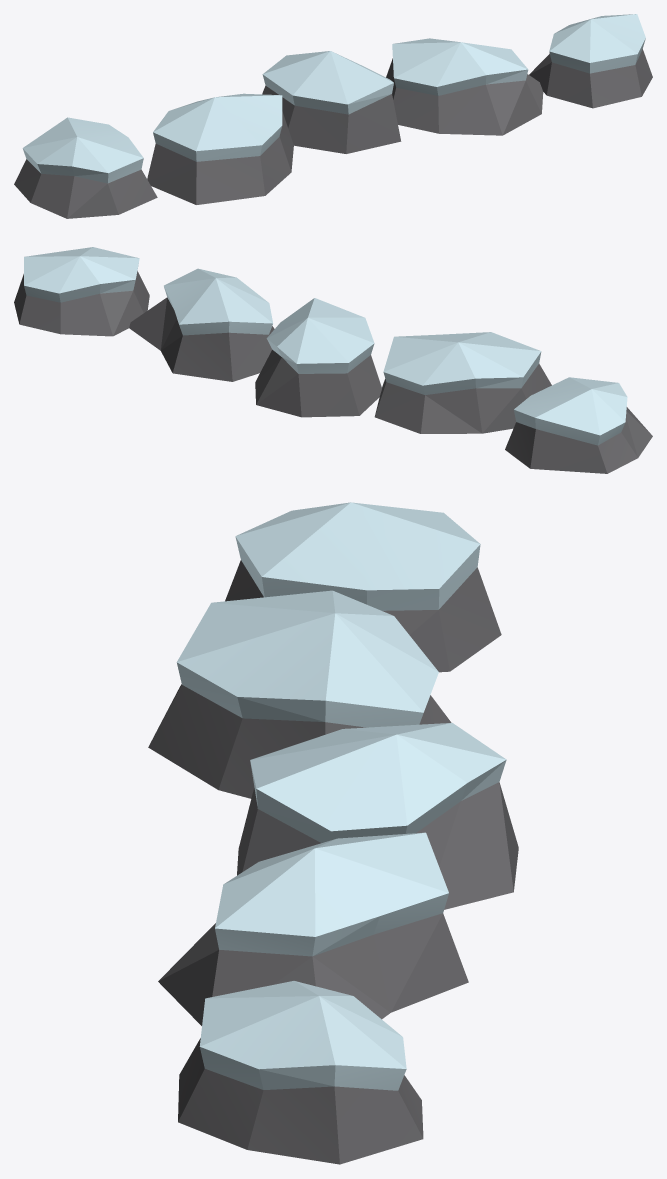
Rendered from Rocas_Camino01.glb.
3 views of the same model, one above another, from view 1: azimuth 30°, elevation 25°; view 2: azimuth 150°, elevation 25°; view 3: azimuth 270°, elevation 25° (orthographic). The views are drawn at different scales.
Visible parts, largest first — view 1: SM_Env_Path_Rocks_Side_01_Snow; view 2: SM_Env_Path_Rocks_Side_01_Snow; view 3: SM_Env_Path_Rocks_Side_01_Snow.
Boxes of the visible parts, <box> form: SM_Env_Path_Rocks_Side_01_Snow: <box>14,14,652,218</box>; SM_Env_Path_Rocks_Side_01_Snow: <box>14,247,652,473</box>; SM_Env_Path_Rocks_Side_01_Snow: <box>148,502,518,1164</box>.
Bounding box in the file's own units: 3 × 0.3224 × 0.7896.
Materials: 1 (1 with a texture image).
